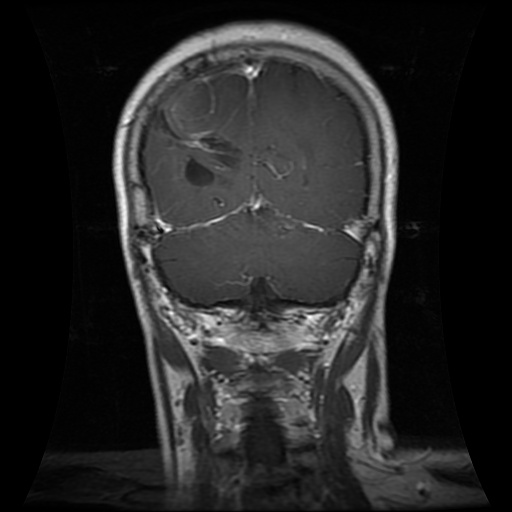glioma: (154, 81, 244, 187)
